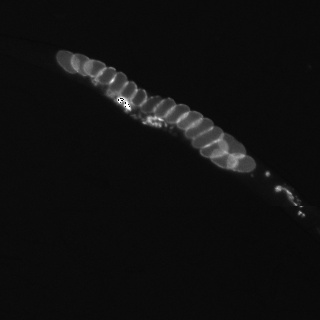embryo: (217, 133, 246, 159), (192, 126, 223, 148), (209, 147, 238, 170), (185, 118, 213, 140), (56, 50, 80, 74), (70, 53, 95, 76), (176, 111, 202, 133), (225, 154, 255, 172), (200, 139, 228, 158), (163, 104, 189, 124), (91, 66, 117, 85), (153, 98, 176, 118), (140, 96, 163, 114), (83, 59, 105, 77), (109, 72, 127, 94), (121, 81, 137, 99), (132, 88, 147, 105)
